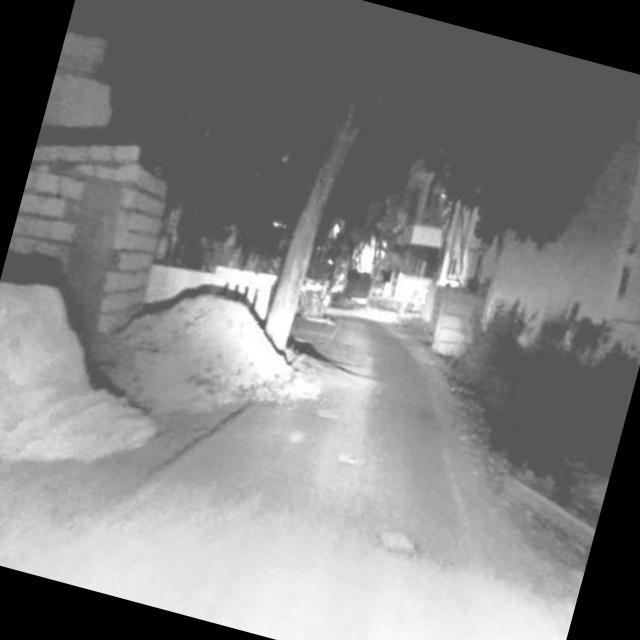Pothole: (360, 507, 435, 572)
